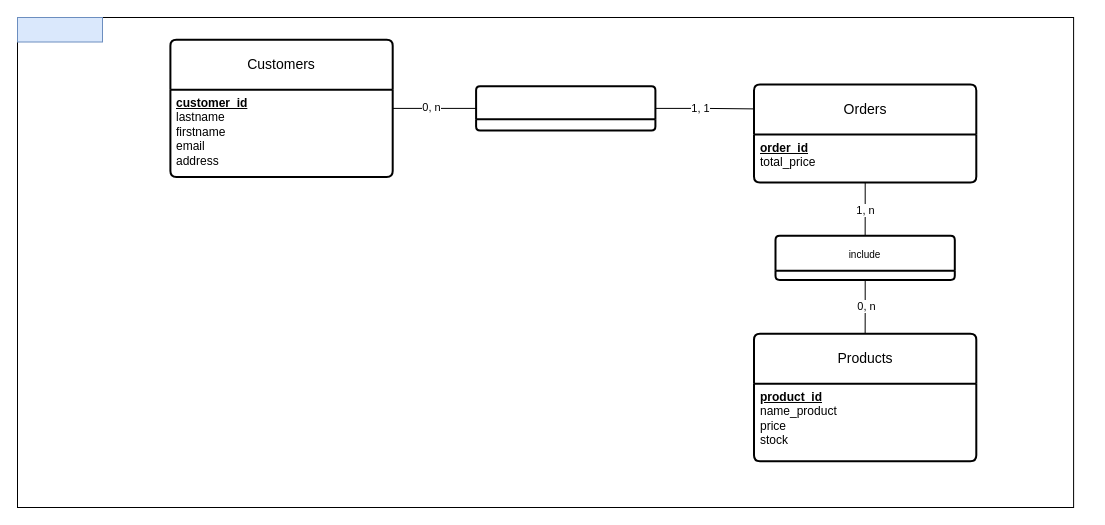
Some shapes in this 1105 by 525 pixel diagram are drawn without their labels. The shapes that lost their labels are listed below. From the top down, each one's centre as x and y in pixels, then its label:
(59,29): MCD
(565,108): is passed by
